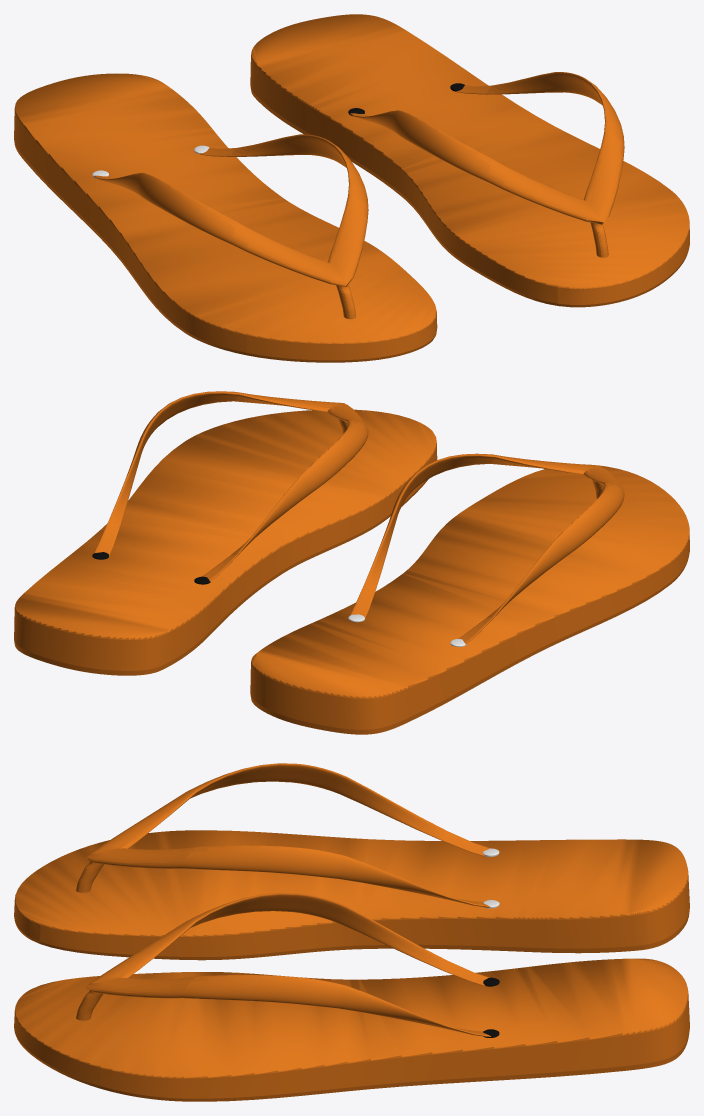
The model's file is orange flipflops.fbx.
The picture shows the model from 3 angles, top to bottom: view 1: azimuth 30°, elevation 25°; view 2: azimuth 150°, elevation 25°; view 3: azimuth 270°, elevation 25°; orthographic projection. The views are drawn at different scales.
Parts seen in each view (by area): view 1: Curve003, Curve002, Loft005, Loft004; view 2: Curve002, Curve003, Loft005, Loft004; view 3: Curve003, Curve002, Loft004, Loft005.
Part boxes in pixels (x1,y1,x2,y2): Curve003: (250,14,689,307); Curve002: (14,73,437,362); Loft005: (350,72,624,224); Loft004: (94,134,368,286); Curve002: (250,464,689,734); Curve003: (14,409,437,675); Loft005: (94,391,368,581); Loft004: (350,453,624,644); Curve003: (14,958,689,1101); Curve002: (14,830,689,960); Loft004: (86,763,490,907); Loft005: (85,892,490,1036).
Bounding box in the file's own units: 19.91 × 4.18 × 23.07.
